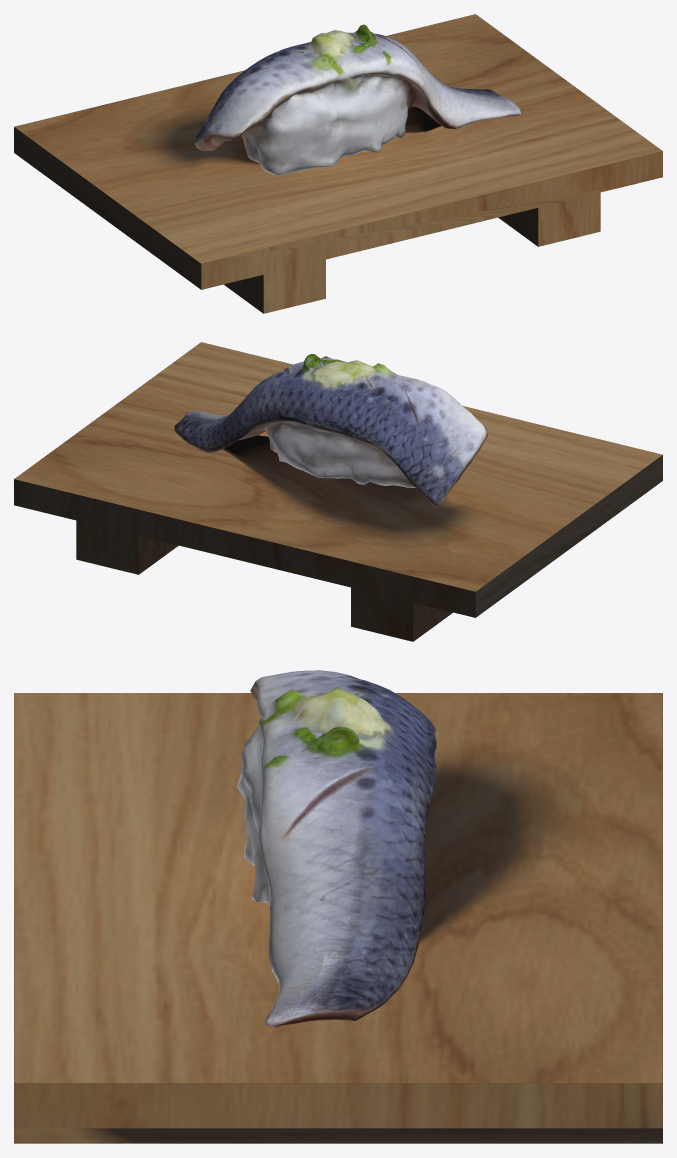
File: sushi_iwashi.glb
3 renders of one model, top to bottom at view 1: azimuth 30°, elevation 25°; view 2: azimuth 150°, elevation 25°; view 3: azimuth 270°, elevation 25°, orthographic. The views are drawn at different scales.
Visible parts, largest first — view 1: geta.vox, iwashi_1; view 2: geta.vox, iwashi_1; view 3: geta.vox, iwashi_1.
Boxes of the visible parts, x1=… form: geta.vox: x1=14, y1=14, x2=662, y2=313; iwashi_1: x1=195, y1=24, x2=521, y2=175; geta.vox: x1=14, y1=342, x2=662, y2=641; iwashi_1: x1=174, y1=354, x2=487, y2=507; geta.vox: x1=14, y1=693, x2=662, y2=1143; iwashi_1: x1=237, y1=670, x2=436, y2=1026.
Bounding box in the file's own units: 0.807 × 0.2867 × 0.5671.
Materials: 2 (2 with a texture image).
